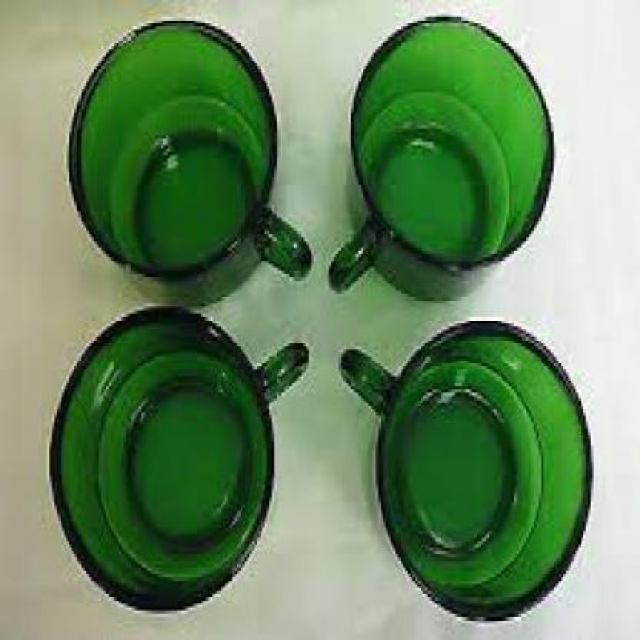kaca: (48, 303, 306, 608), (335, 317, 591, 614), (66, 14, 309, 303), (325, 14, 552, 297)
